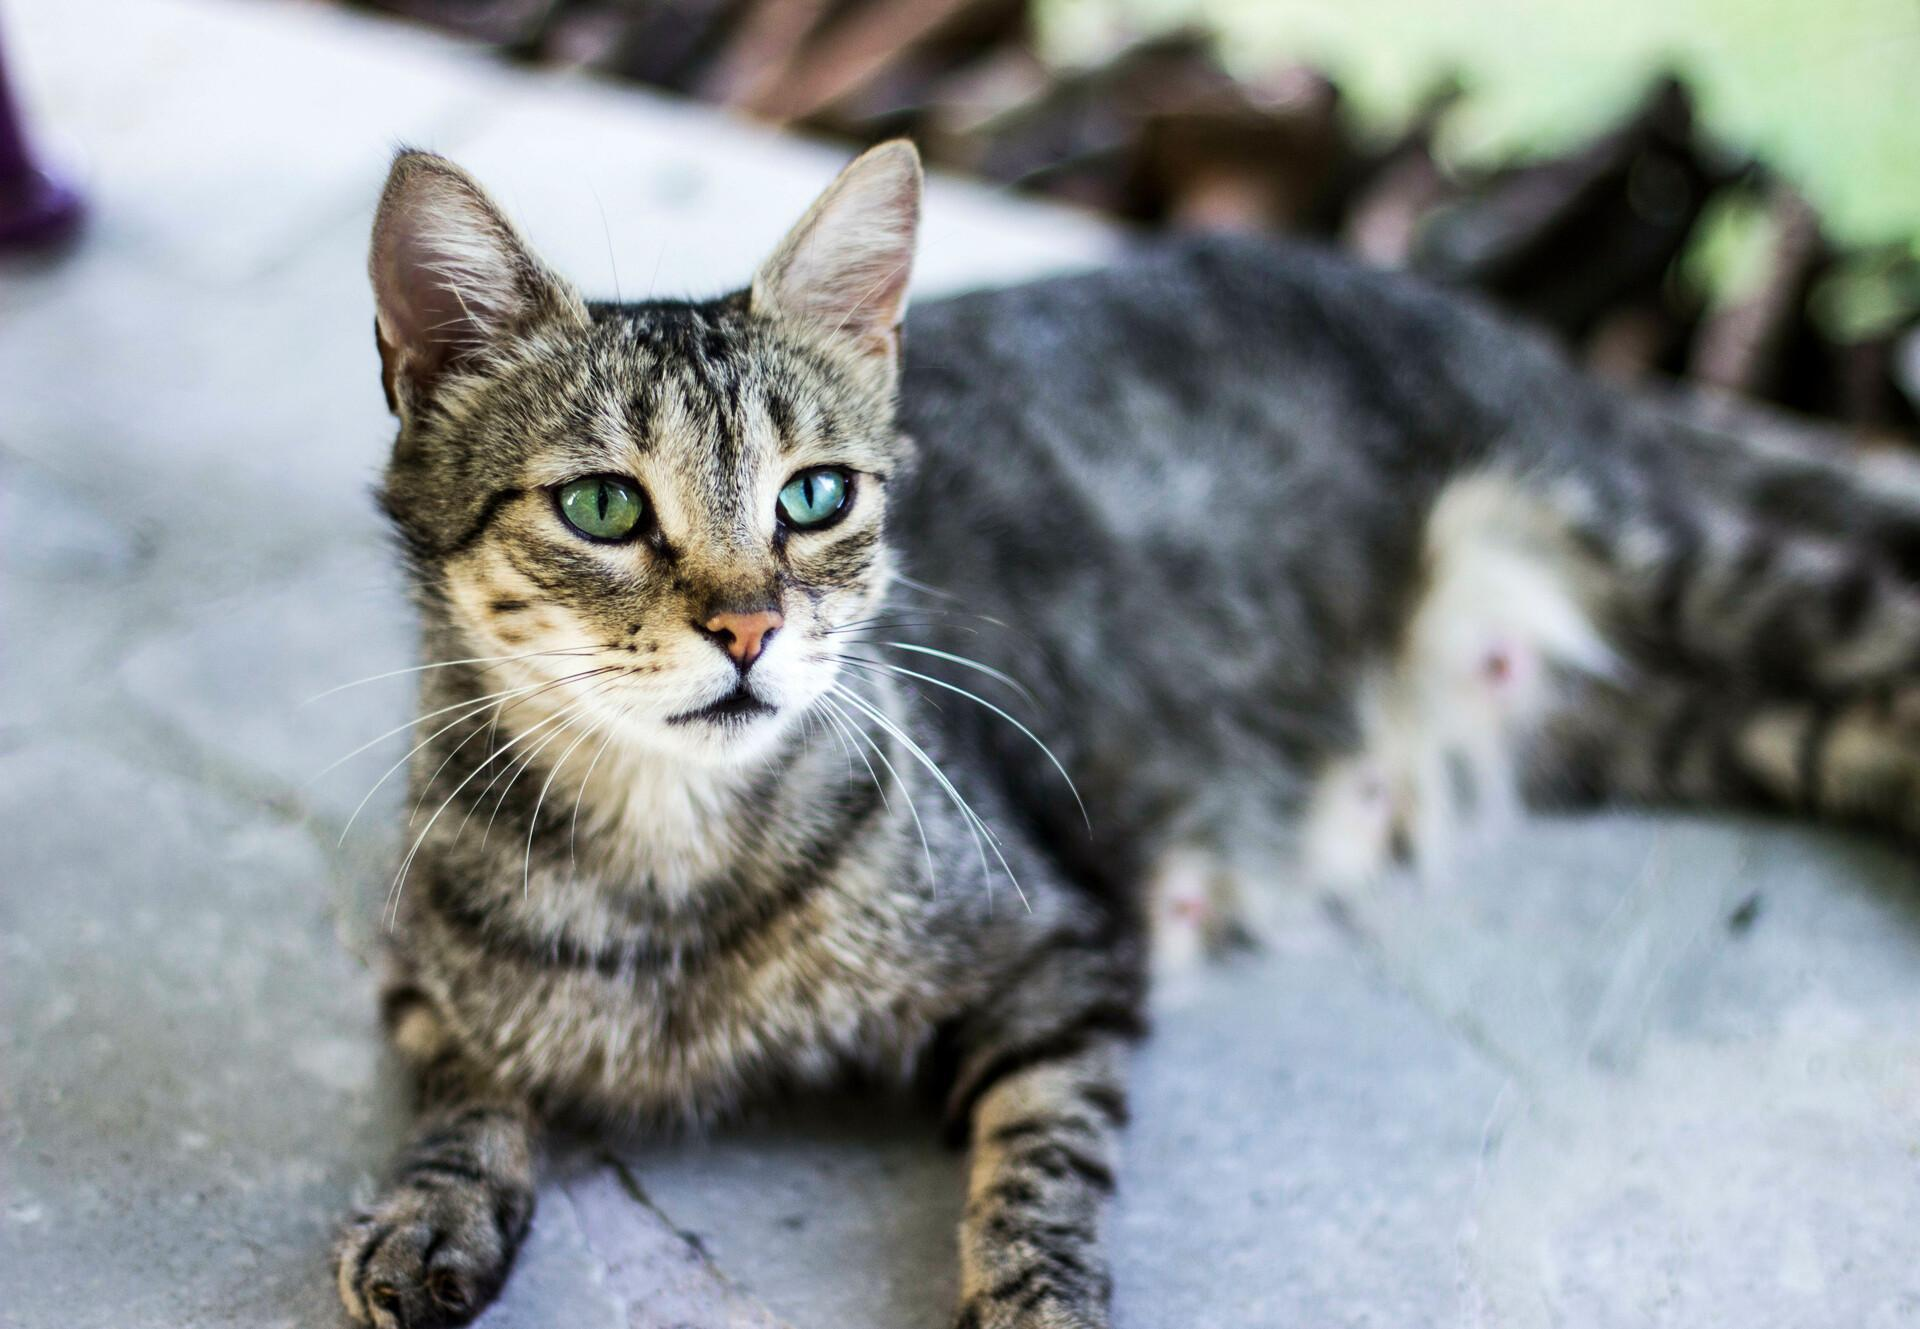Cat: (360, 127, 932, 757)
